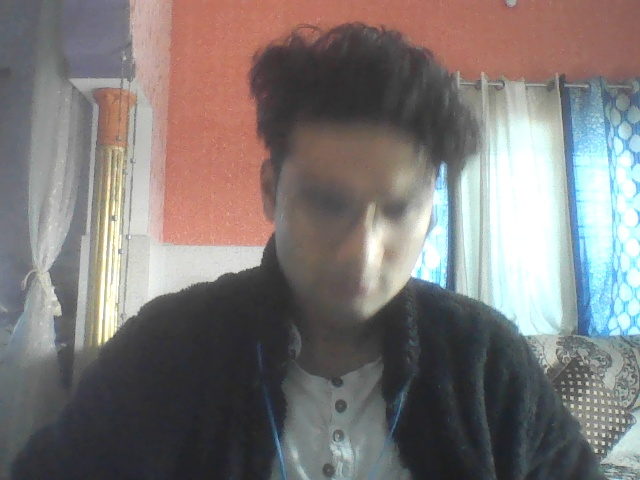real: (242, 50, 454, 350)
